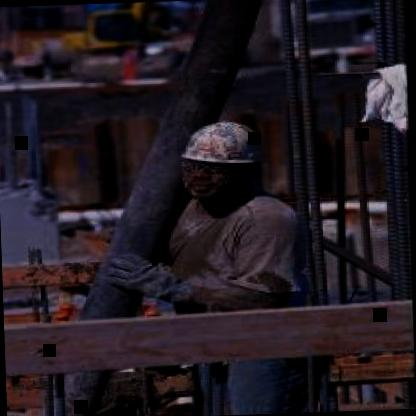helmet: (172, 118, 272, 202)
